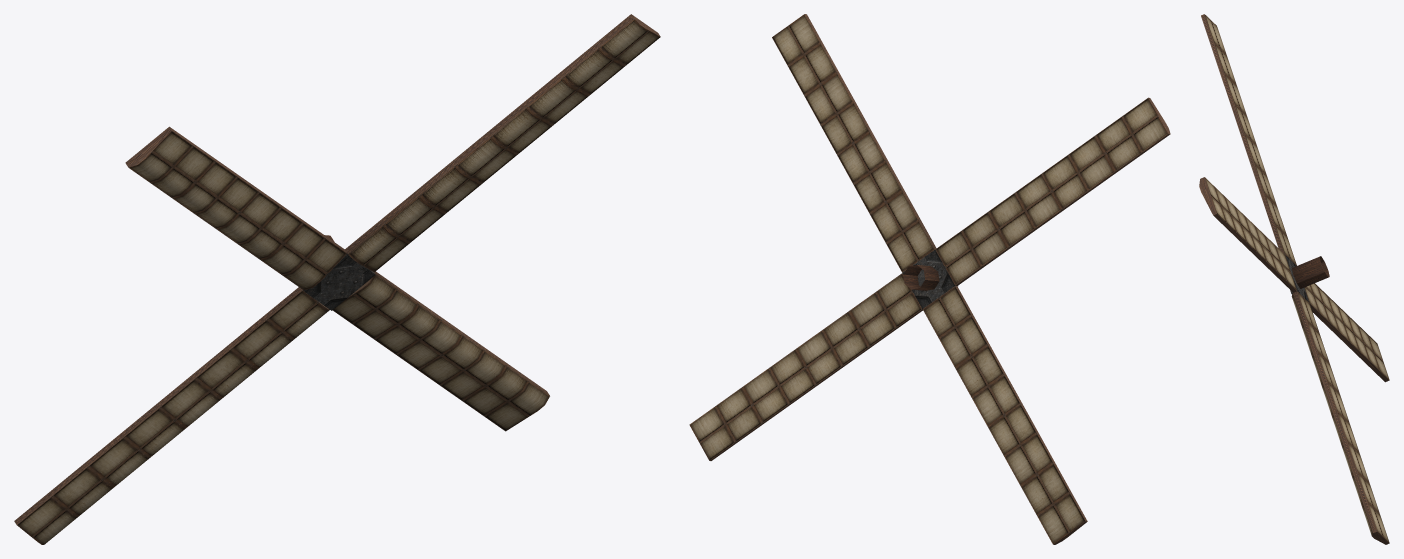
Rendered from mm9_deco_windmillp335.glb.
The picture shows the model from 3 angles, left to right: view 1: azimuth 30°, elevation 25°; view 2: azimuth 150°, elevation 25°; view 3: azimuth 270°, elevation 25°; orthographic projection. The views are drawn at different scales.
Parts seen in each view (by area): view 1: Windmillp335; view 2: Windmillp335; view 3: Windmillp335.
Boxes of the visible parts, x1=… form: Windmillp335: x1=14, y1=14, x2=660, y2=544; Windmillp335: x1=689, y1=14, x2=1170, y2=544; Windmillp335: x1=1199, y1=14, x2=1389, y2=544.
Size of the model in its own units: 21.28 by 19.44 by 9.12.
2 materials, 2 textured.
